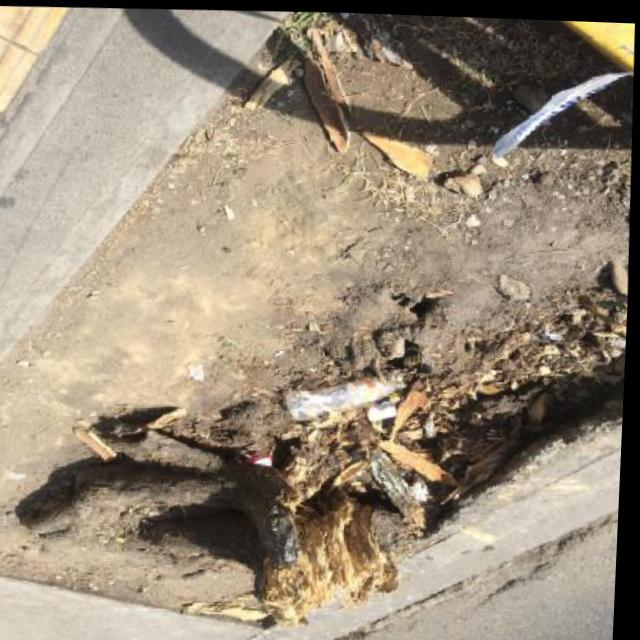cardboard: (242, 449, 271, 468)
other: (489, 66, 621, 162)
plastic: (281, 373, 408, 425)
